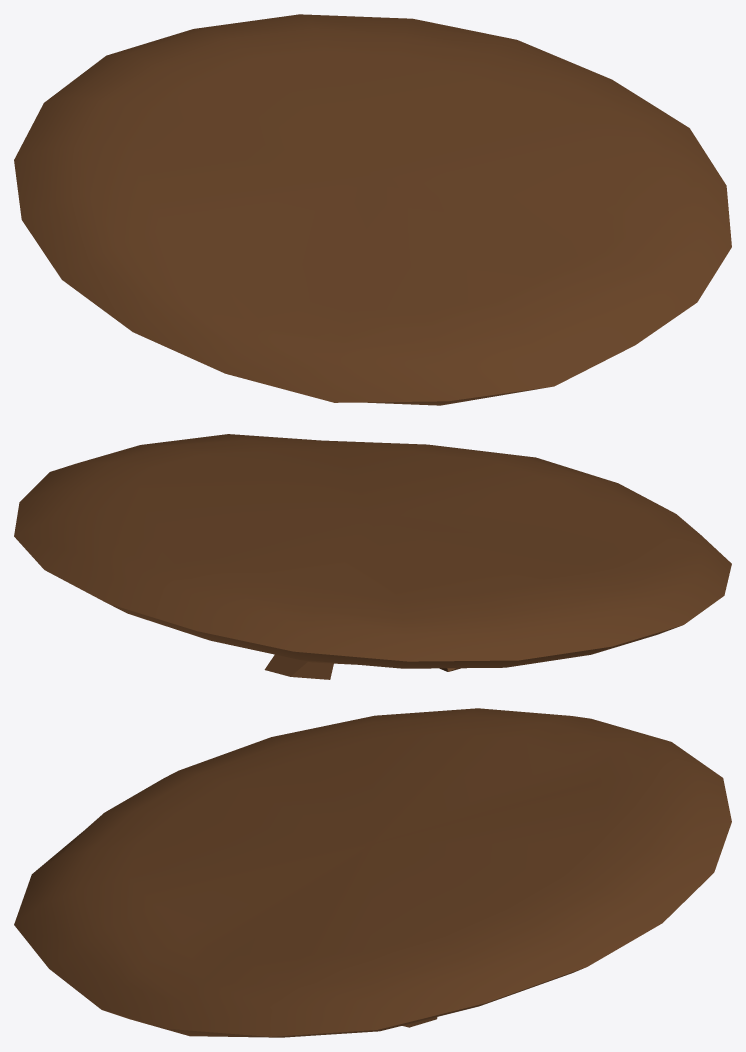
File: cookie.fbx
The picture shows the model from 3 angles, top to bottom: view 1: azimuth 30°, elevation 25°; view 2: azimuth 150°, elevation 25°; view 3: azimuth 270°, elevation 25°; orthographic projection.
Visible parts, largest first — view 1: pCube12; view 2: pCube12; view 3: pCube12.
Boxes of the visible parts, box(x1,y1,x2,y2) form: pCube12: box(14, 14, 731, 405); pCube12: box(14, 434, 731, 679); pCube12: box(14, 708, 731, 1037).
Bounding box in the file's own units: 14.34 × 3.23 × 14.04.
